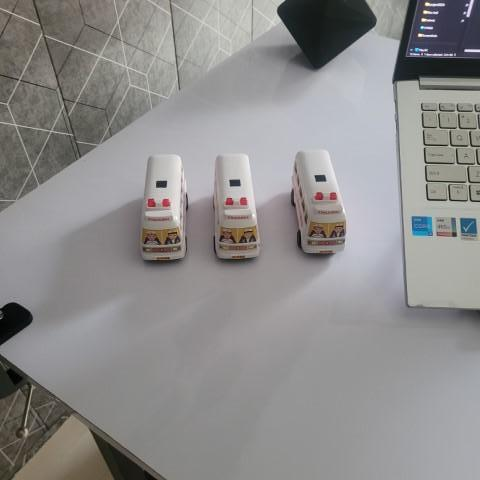ambulance: (285, 144, 350, 259), (210, 153, 263, 262), (140, 153, 190, 268)
